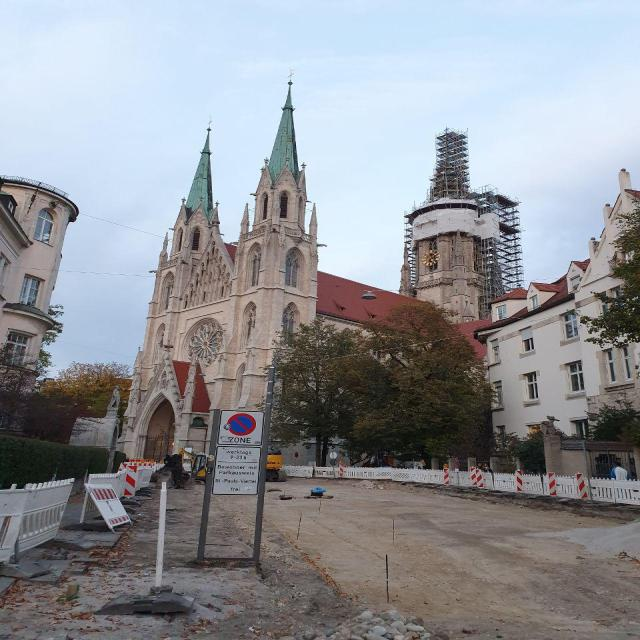road sign: (195, 410, 223, 558), (213, 412, 261, 496), (255, 407, 271, 561)
